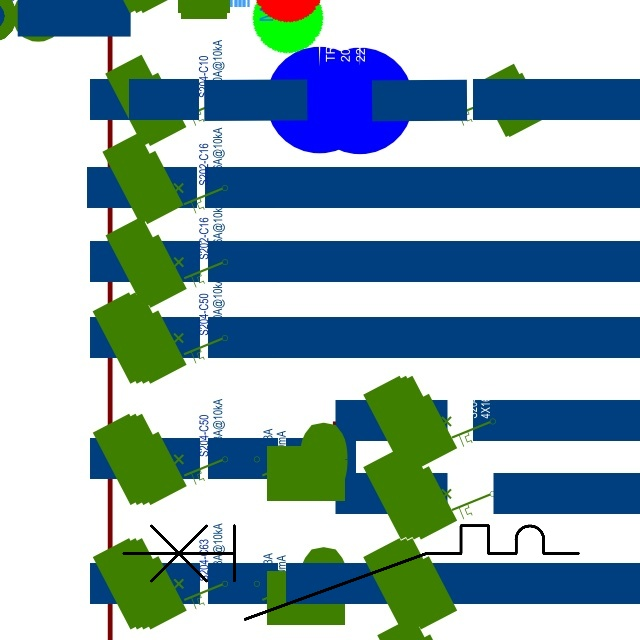interruptor_termomagnetico: (112, 514, 590, 631)
